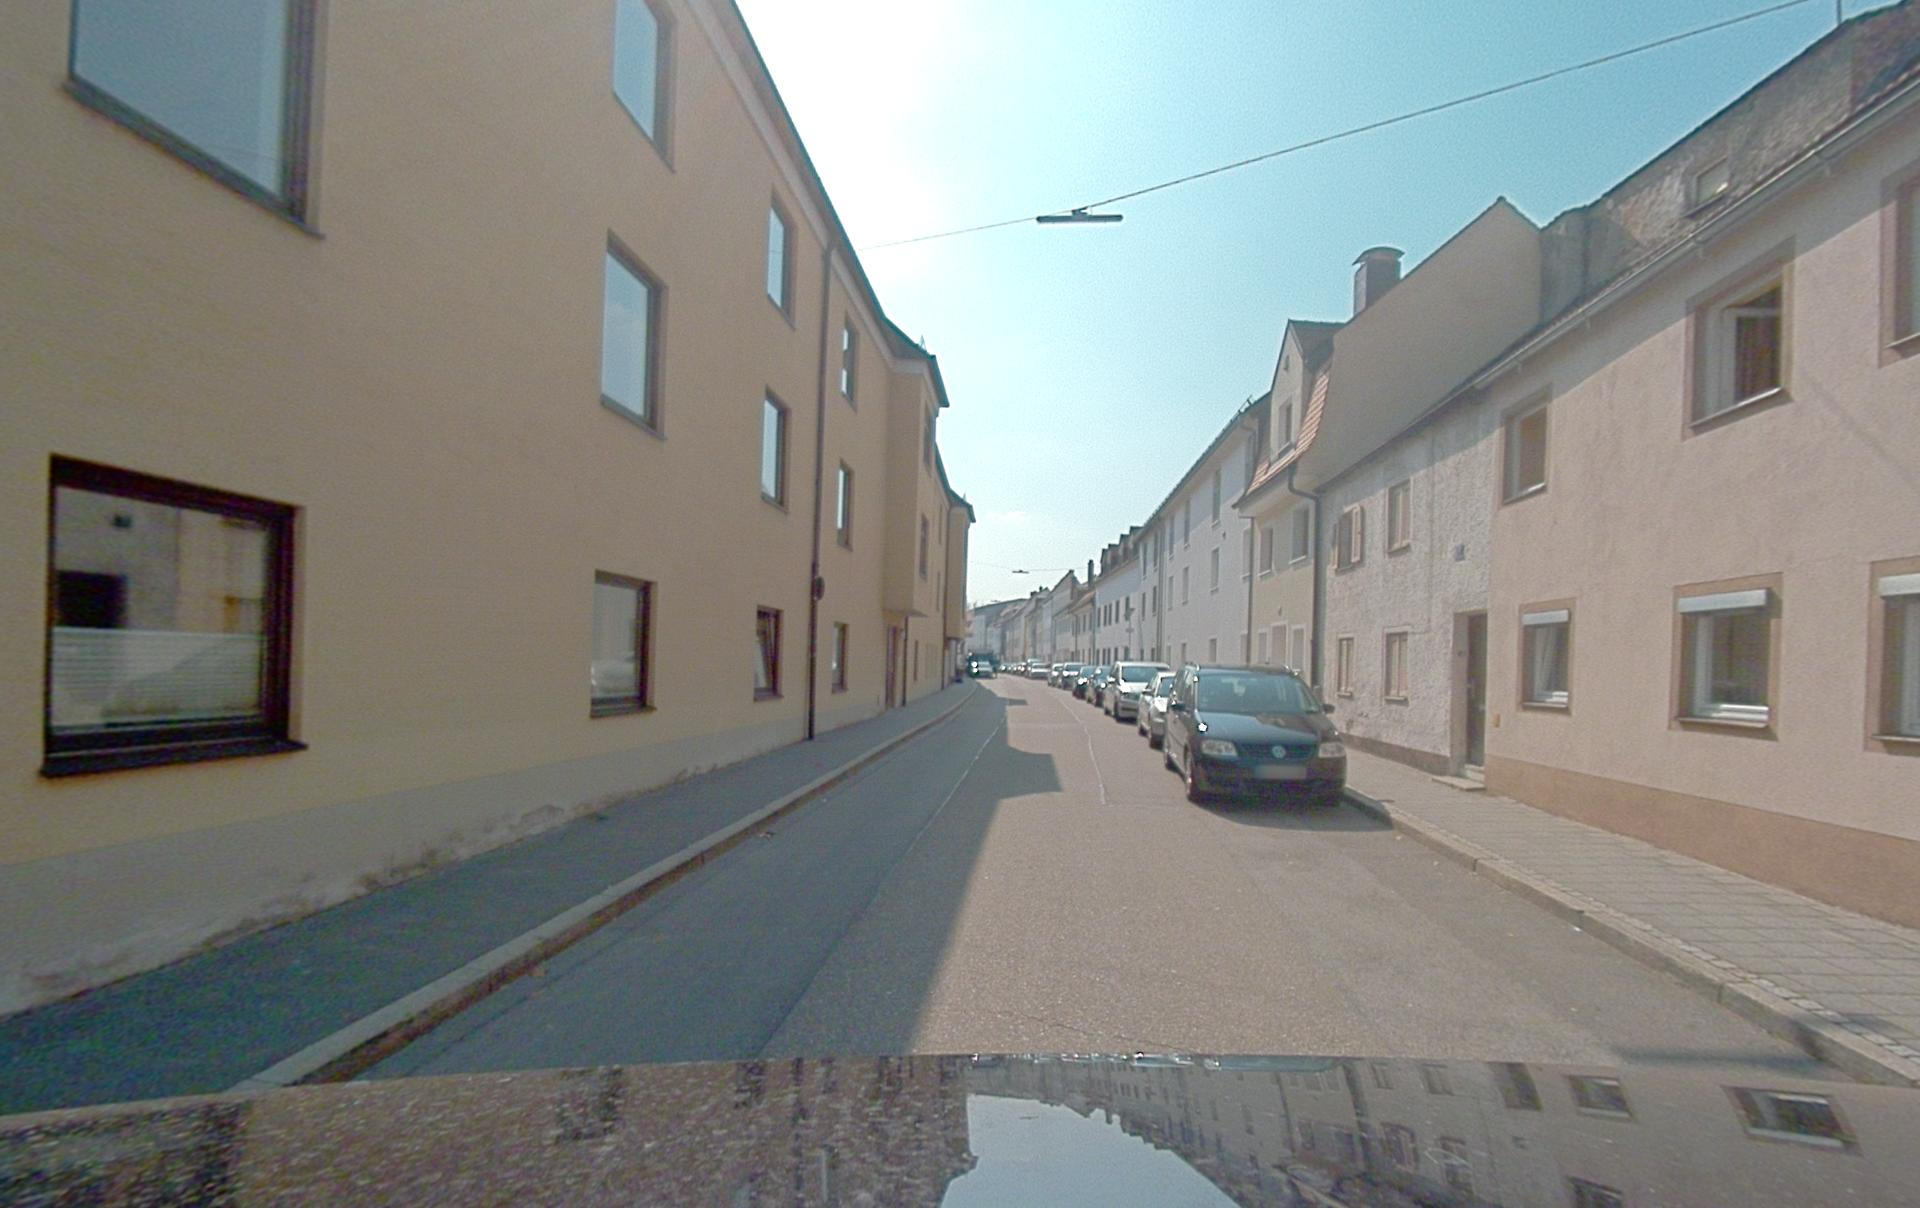car: (1162, 664, 1345, 804), (1103, 661, 1168, 720), (1136, 671, 1174, 747)
